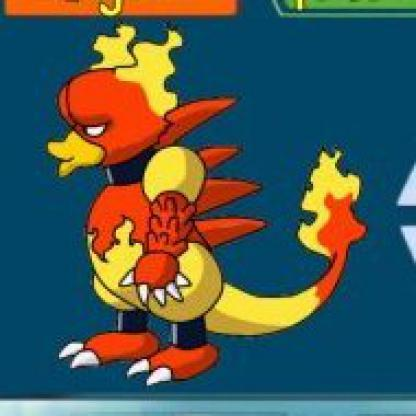Magmar: (33, 7, 400, 416)
